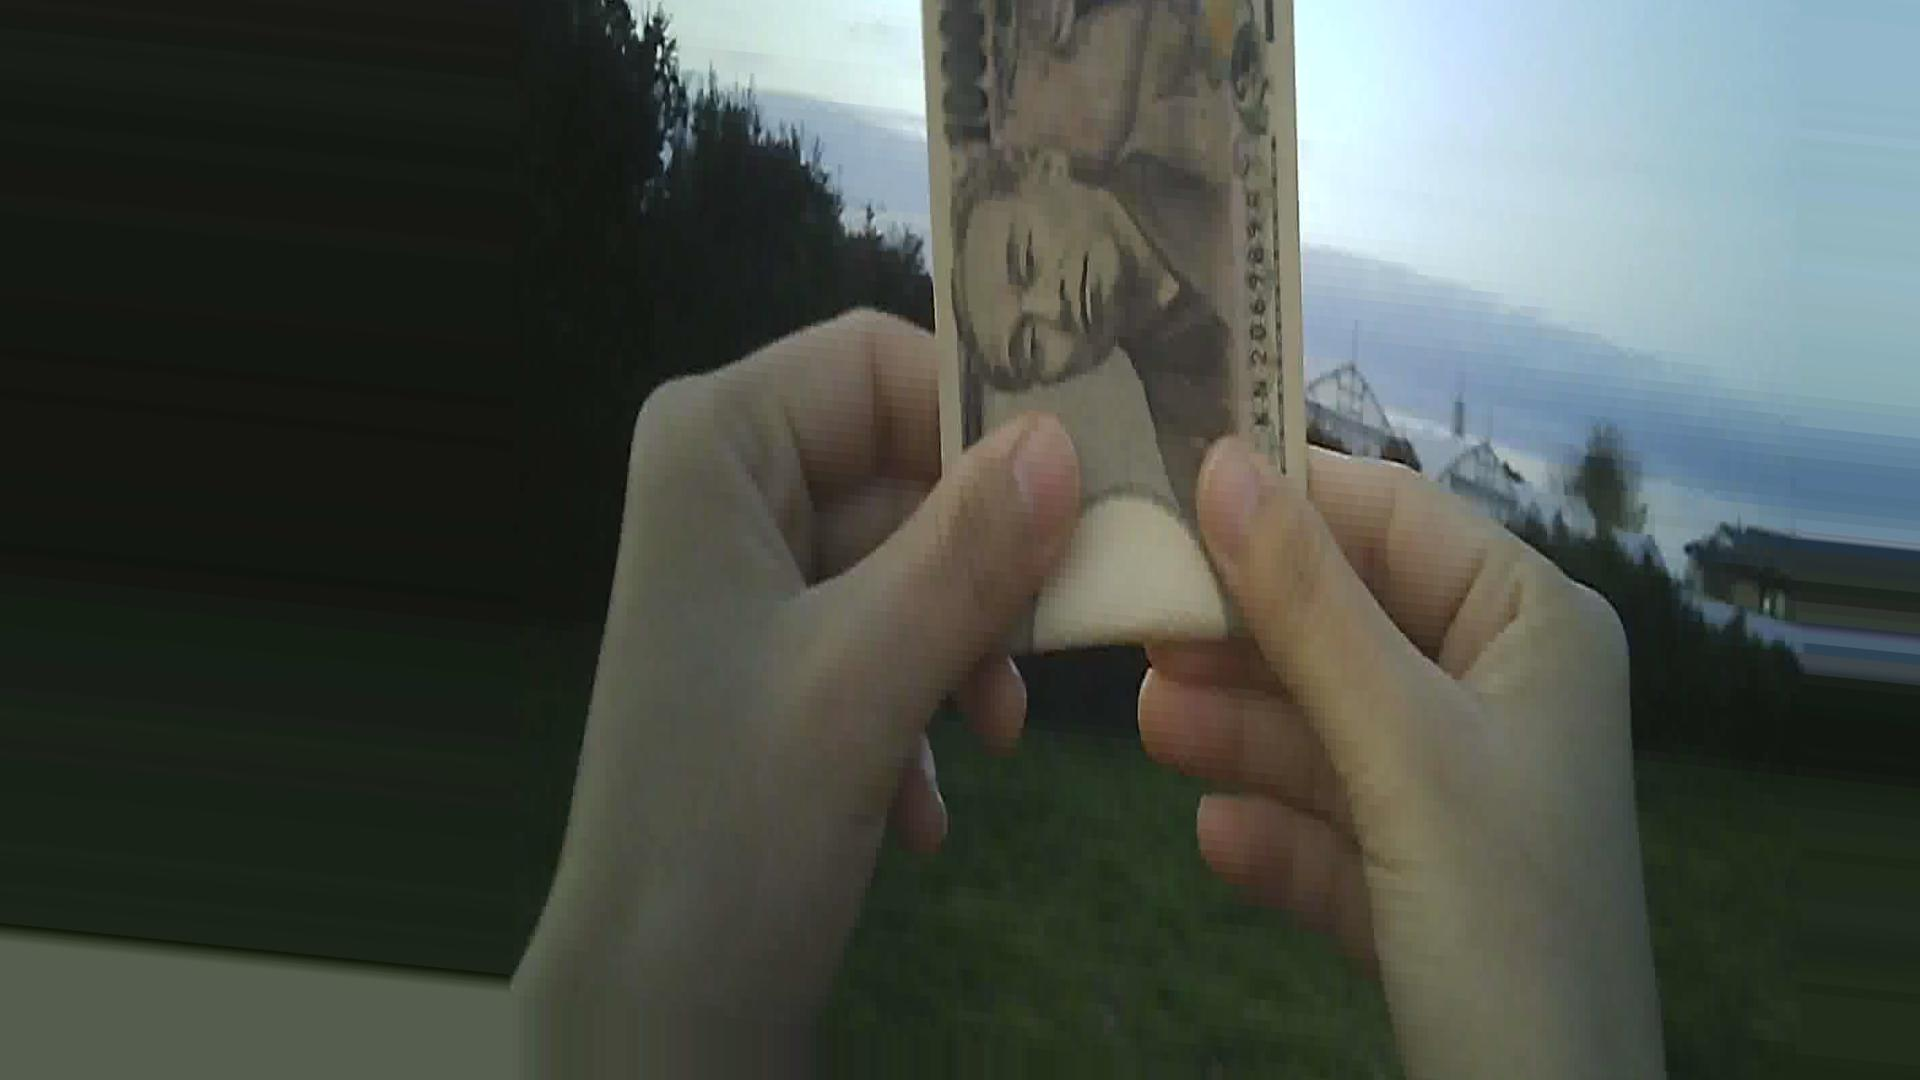10,000 Yen: (884, 18, 1356, 651)
